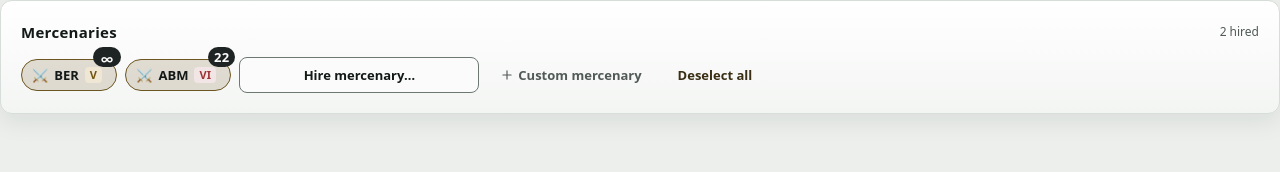
the pill removes its mercenary in one press, and Put back restores it where it stood
Click the button with aria-label "Remove Bear V": coordinates (69, 75) [22,60,116,90]
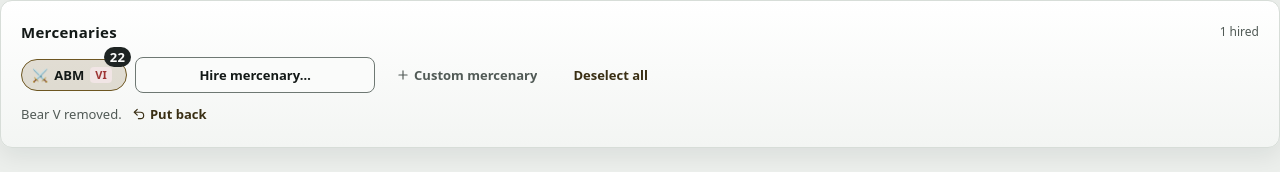
Expected: the message shows "Bear V removed.", [21,105,122,123]
Click the button "Put back": coordinates (171, 114) [126,101,216,127]
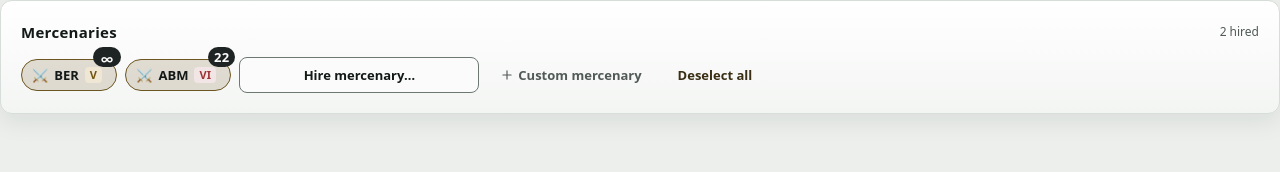
Expected: the message "Bear V removed. Put back" is gone
